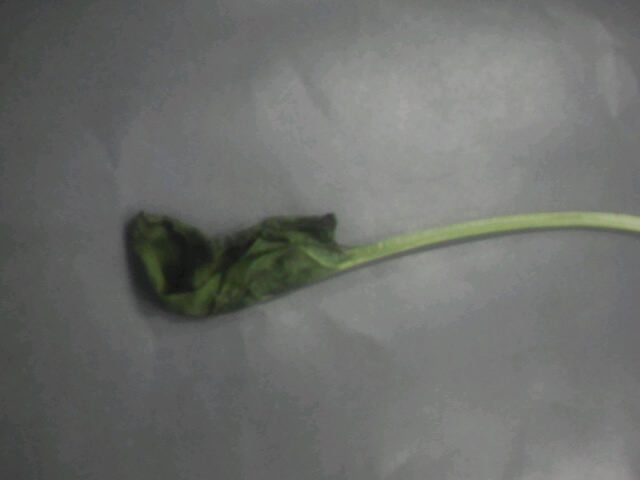yellow: (96, 170, 528, 330)
